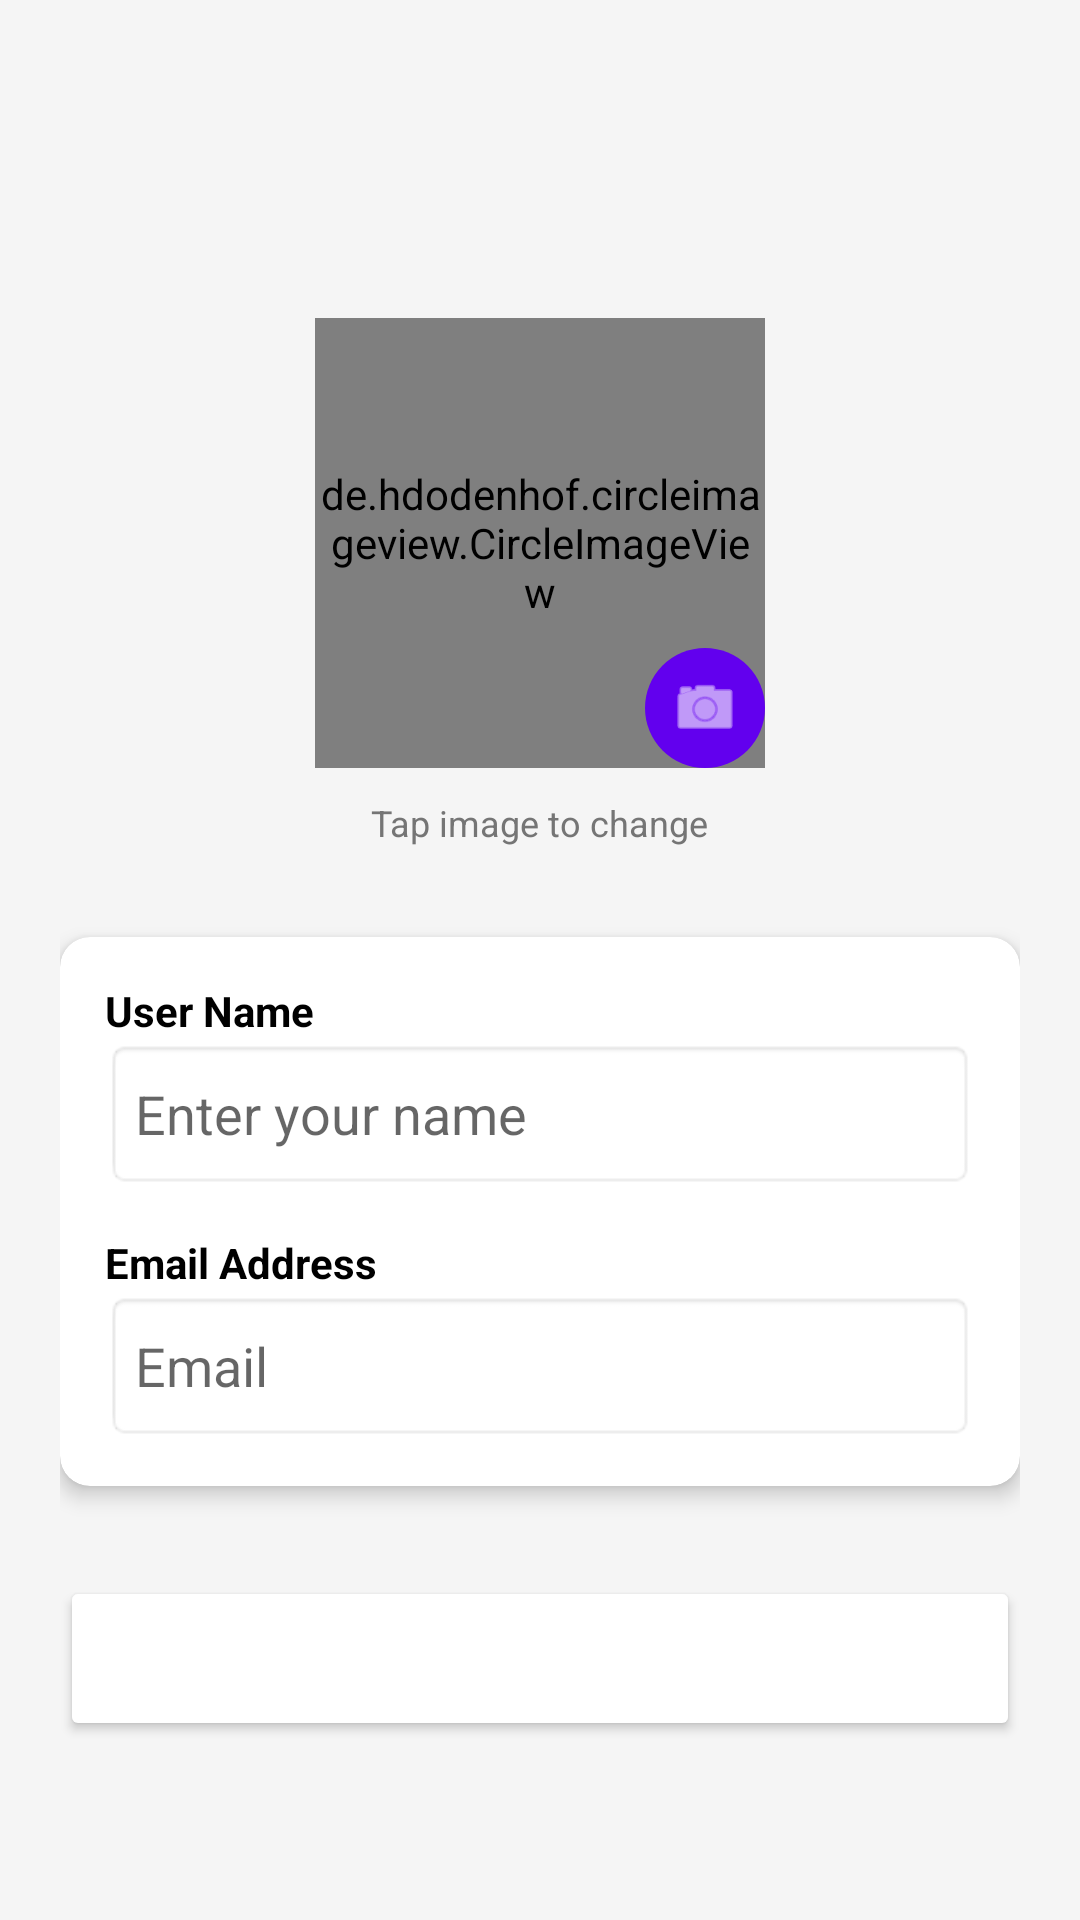

Screen size 1080w x 1920h. Icon name, then its center in pixels as (x,y):
camera: (705,708)
